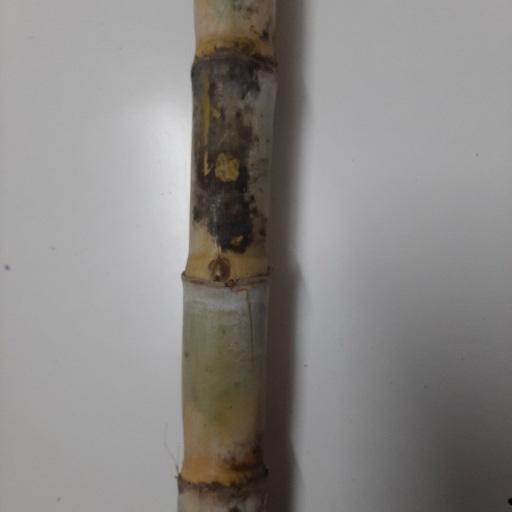Bud: (208, 258, 229, 283)
